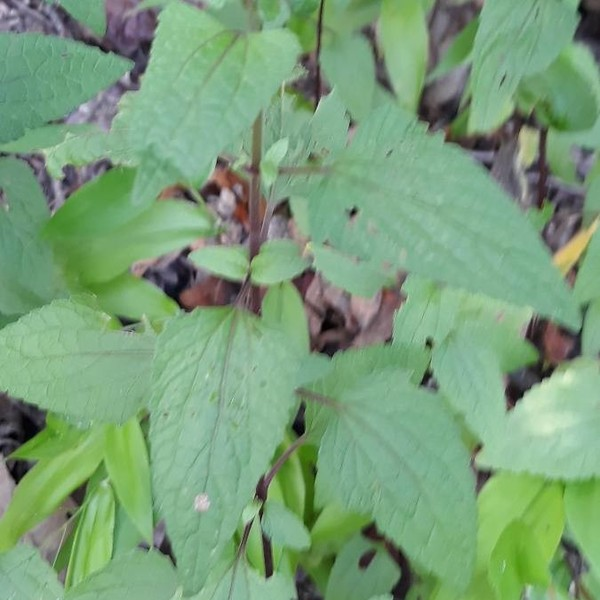obstacle: (65, 39, 524, 549)
